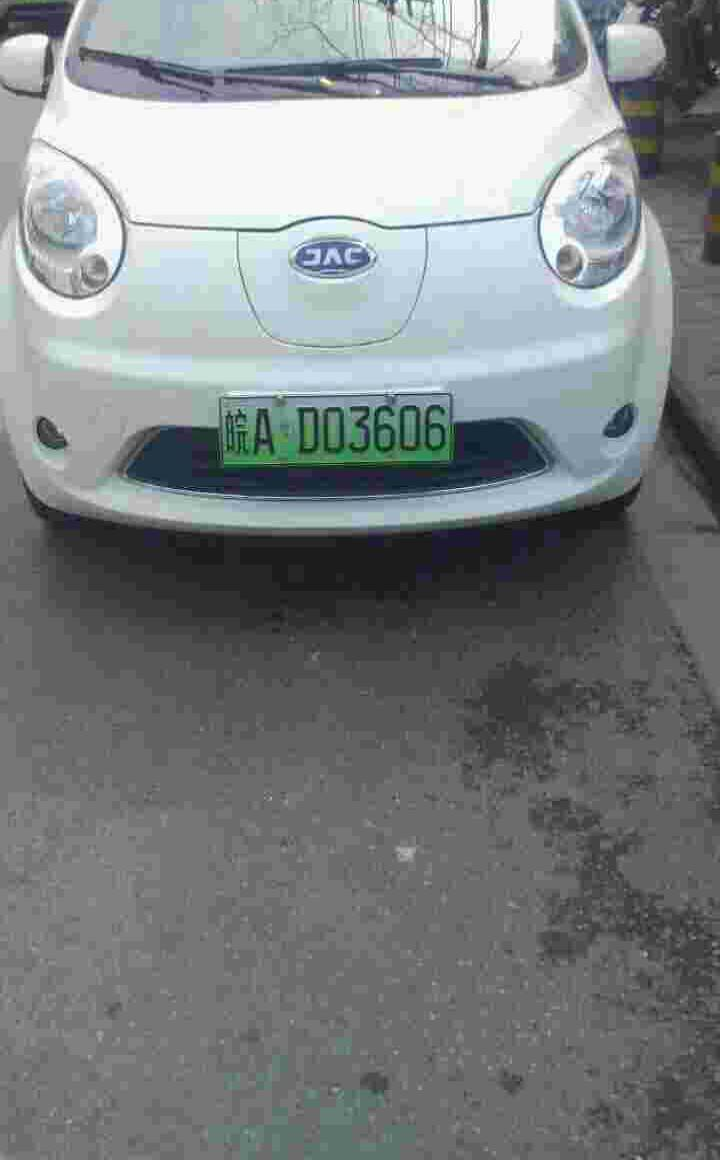car_id: (218, 395, 452, 466)
